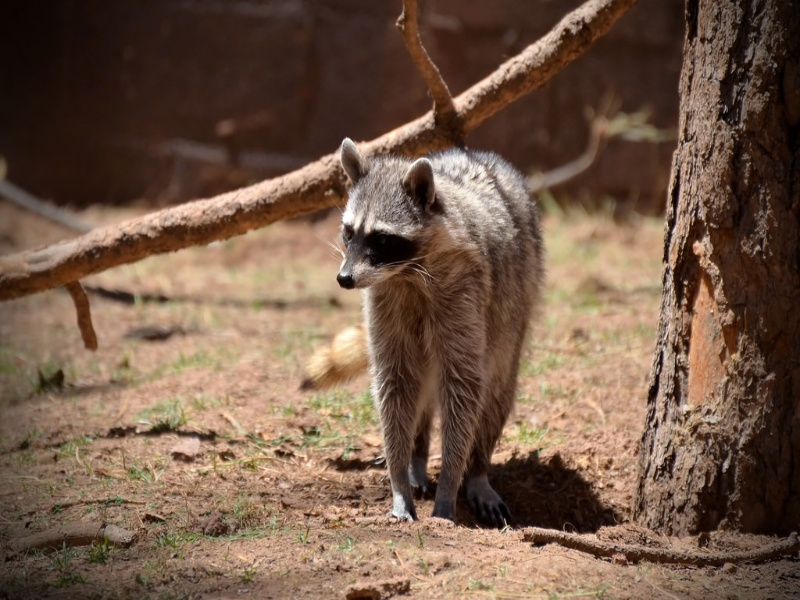raccoon: (336, 134, 547, 530)
